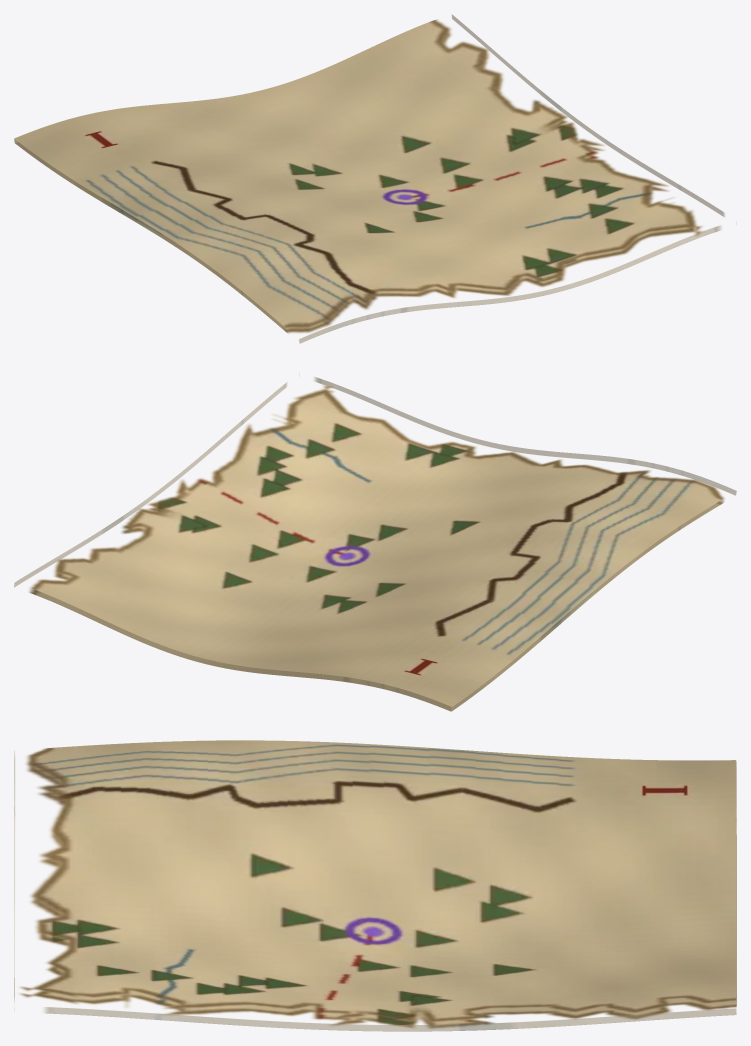
The model's file is kartenstueck_1.glb.
3 renders of one model, top to bottom at view 1: azimuth 30°, elevation 25°; view 2: azimuth 150°, elevation 25°; view 3: azimuth 270°, elevation 25°, orthographic. The views are drawn at different scales.
Visible parts, largest first — view 1: kartenstueck_1; view 2: kartenstueck_1; view 3: kartenstueck_1.
Part boxes in pixels (x1,y1,x2,y2): kartenstueck_1: (14, 14, 736, 343); kartenstueck_1: (14, 377, 736, 711); kartenstueck_1: (14, 740, 736, 1031).
Size of the model in its own units: 0.1384 by 0.0135 by 0.156.
Materials: 1 (1 with a texture image).
